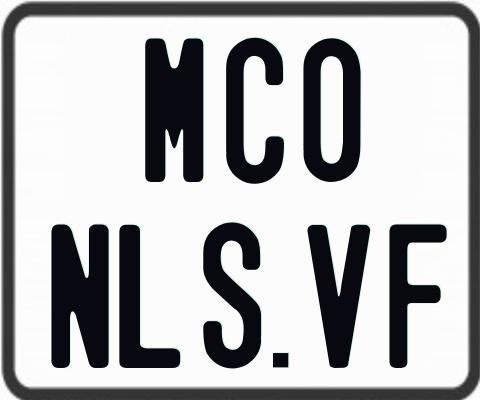0: (302, 35, 361, 183)
C: (226, 38, 289, 190)
F: (387, 223, 448, 373)
L: (119, 224, 185, 369)
M: (145, 37, 208, 184)
N: (50, 221, 110, 368)
S: (200, 219, 258, 368)
V: (307, 223, 374, 367)
